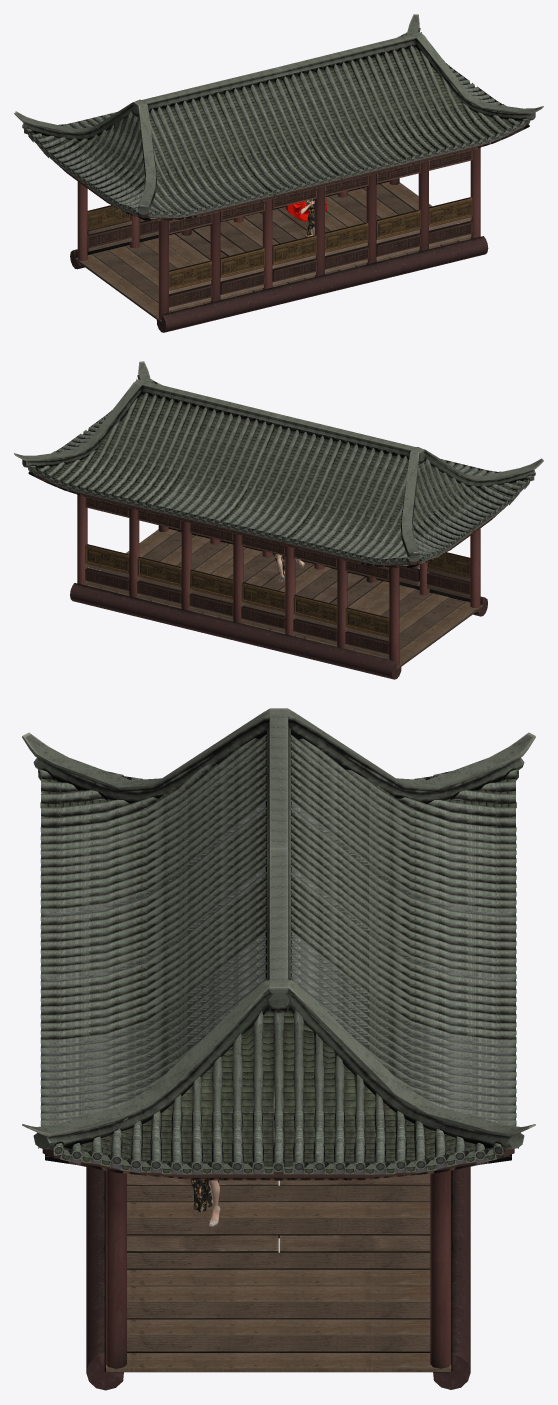
Rendered from china.glb.
3 renders of one model, top to bottom at view 1: azimuth 30°, elevation 25°; view 2: azimuth 150°, elevation 25°; view 3: azimuth 270°, elevation 25°, orthographic. The views are drawn at different scales.
Visible parts, largest first — view 1: roof, Mesh_0, support, z_roof.001, floor.009, floor.007, pillar_r.006, z_roof, boards.063, boards.066, boards.065, boards.064 (+40 smaller); view 2: roof, Mesh_0, support.001, z_roof.002, floor.009, floor.007, pillar_b.004, z_roof, boards.030, boards.032, boards.033, boards.028 (+42 smaller); view 3: roof, Mesh_0, floor.010, z_roof.003, floor.004, floor.008, floor.006, floor.016, floor.020, floor.014, floor.019, floor.002 (+10 smaller).
Boxes of the visible parts, x1,y1,x2,y2 form: roof: (26,32,528,216); Mesh_0: (14,14,543,219); support: (156,236,488,332); z_roof.001: (148,119,529,217); floor.009: (75,254,170,322); floor.007: (92,250,186,311); pillar_r.006: (158,220,168,319); z_roof: (60,124,529,220); boards.063: (376,209,420,239); boards.066: (220,248,264,277); boards.065: (272,235,316,264); boards.064: (325,222,368,252); roof: (30,379,531,563); Mesh_0: (14,361,543,566); support.001: (70,583,401,679); z_roof.002: (28,466,409,565); floor.009: (388,601,482,669); floor.007: (371,597,466,658); pillar_b.004: (389,567,399,666); z_roof: (28,472,495,567); boards.030: (241,582,285,611); boards.032: (137,557,181,586); boards.033: (85,544,129,573); boards.028: (345,607,389,637); roof: (38,734,518,1171); Mesh_0: (22,708,535,1177); floor.010: (106,1353,451,1372); z_roof.003: (53,1145,503,1174); floor.004: (127,1252,430,1269); floor.008: (127,1335,430,1352); floor.006: (127,1269,430,1286); floor.016: (127,1302,430,1319); floor.020: (127,1218,430,1238); floor.014: (127,1286,430,1302); floor.019: (127,1319,430,1335); floor.002: (127,1202,430,1218).
Bounding box in the file's own units: 71.66 × 32.57 × 39.42.
11 materials, 9 textured.
